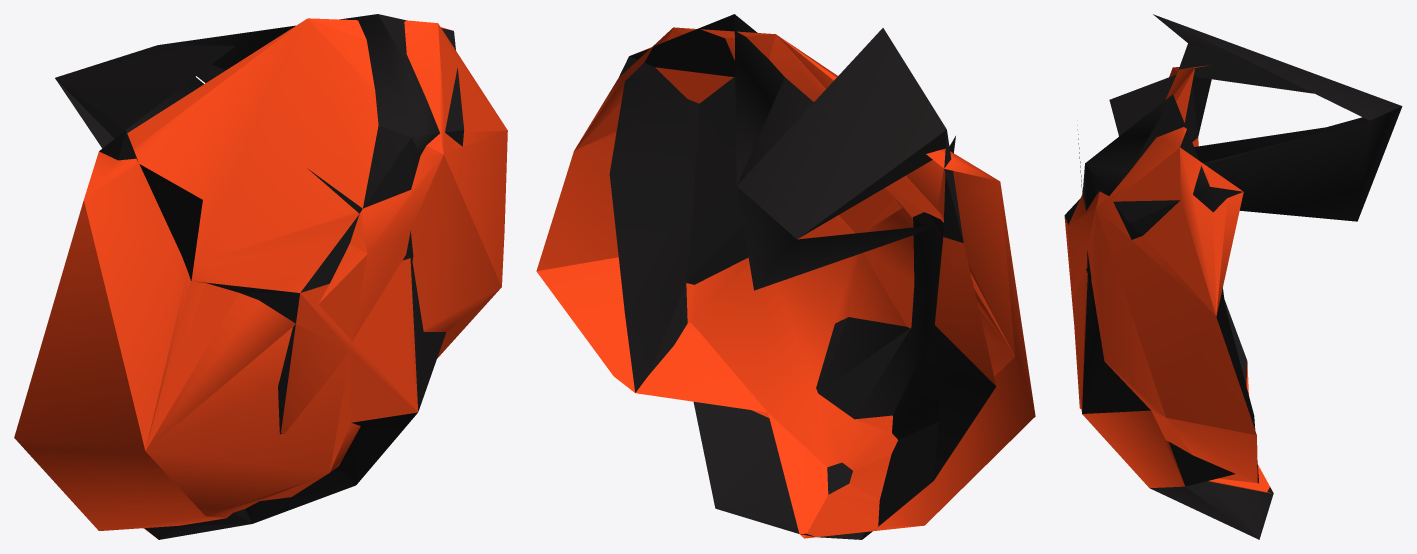
Rendered from roca.fbx.
3 renders of one model, left to right at view 1: azimuth 30°, elevation 25°; view 2: azimuth 150°, elevation 25°; view 3: azimuth 270°, elevation 25°, orthographic. The views are drawn at different scales.
Visible parts, largest first — view 1: Box004; view 2: Box004; view 3: Box004.
Part boxes in pixels (x1=…): Box004: x1=14, y1=14, x2=507, y2=539; Box004: x1=536, y1=14, x2=1035, y2=539; Box004: x1=1064, y1=14, x2=1402, y2=539.
Size of the model in its own units: 0.985 by 0.9461 by 0.6119.
